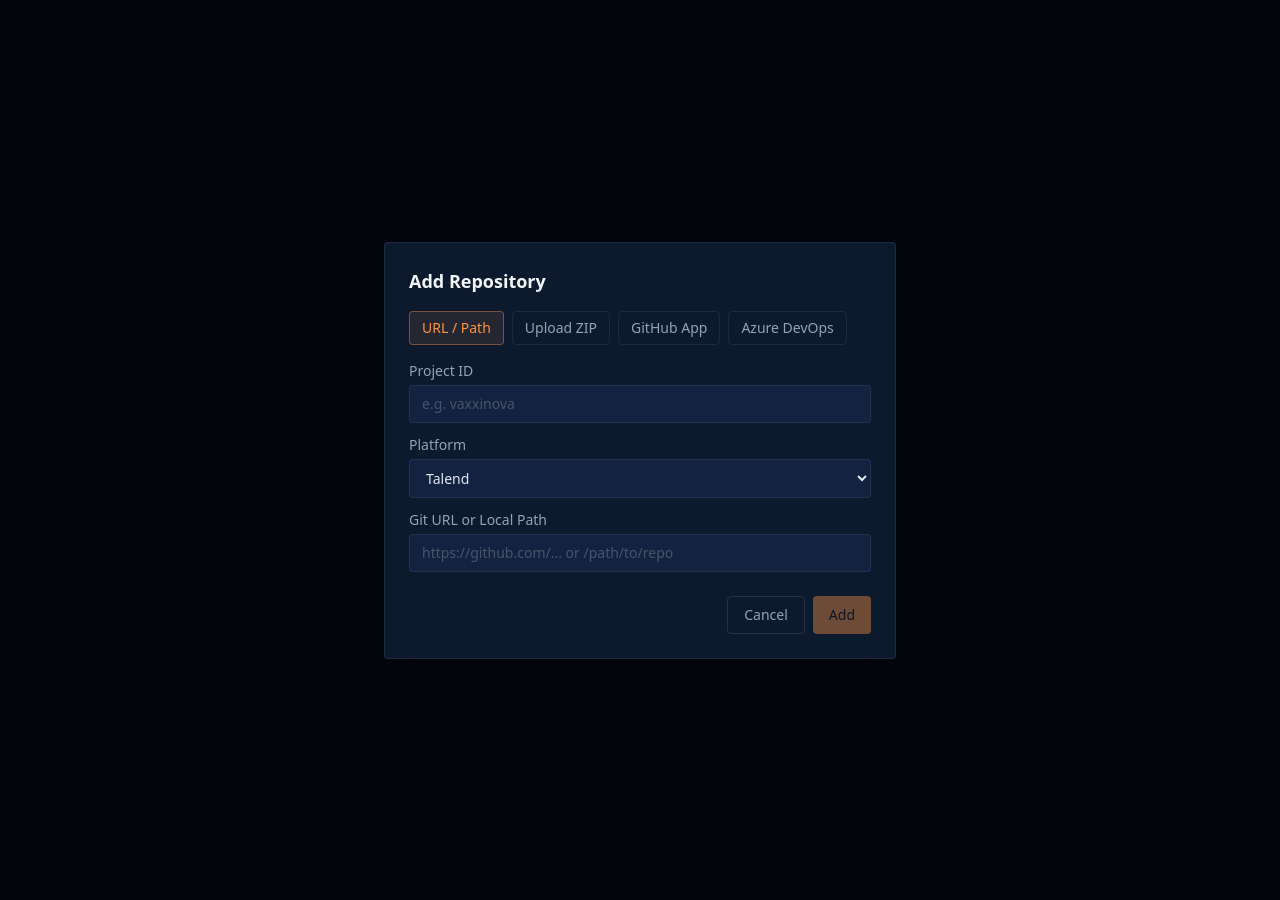
Test: AddRepoDialog credential field › offers a token for any https host, not just github.com
Type "demo" into the field with placeholder "e.g. vaxxinova" at (640,404), box [409,384,871,422]
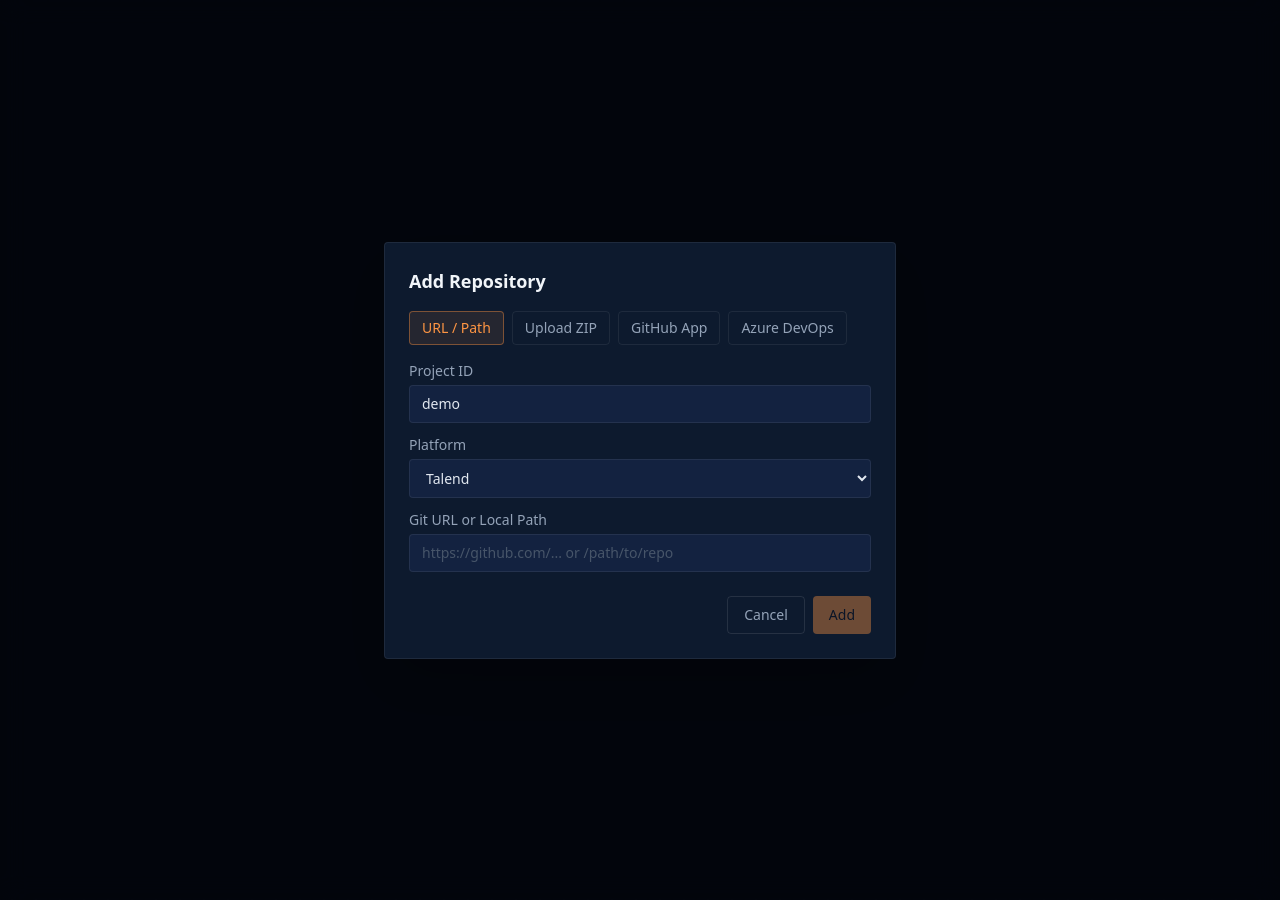
Type "https://gitlab.example.com/team/repo.git" into the field with placeholder "https://github.com/... or /path/to/repo" at (640,552), box [409,534,871,572]
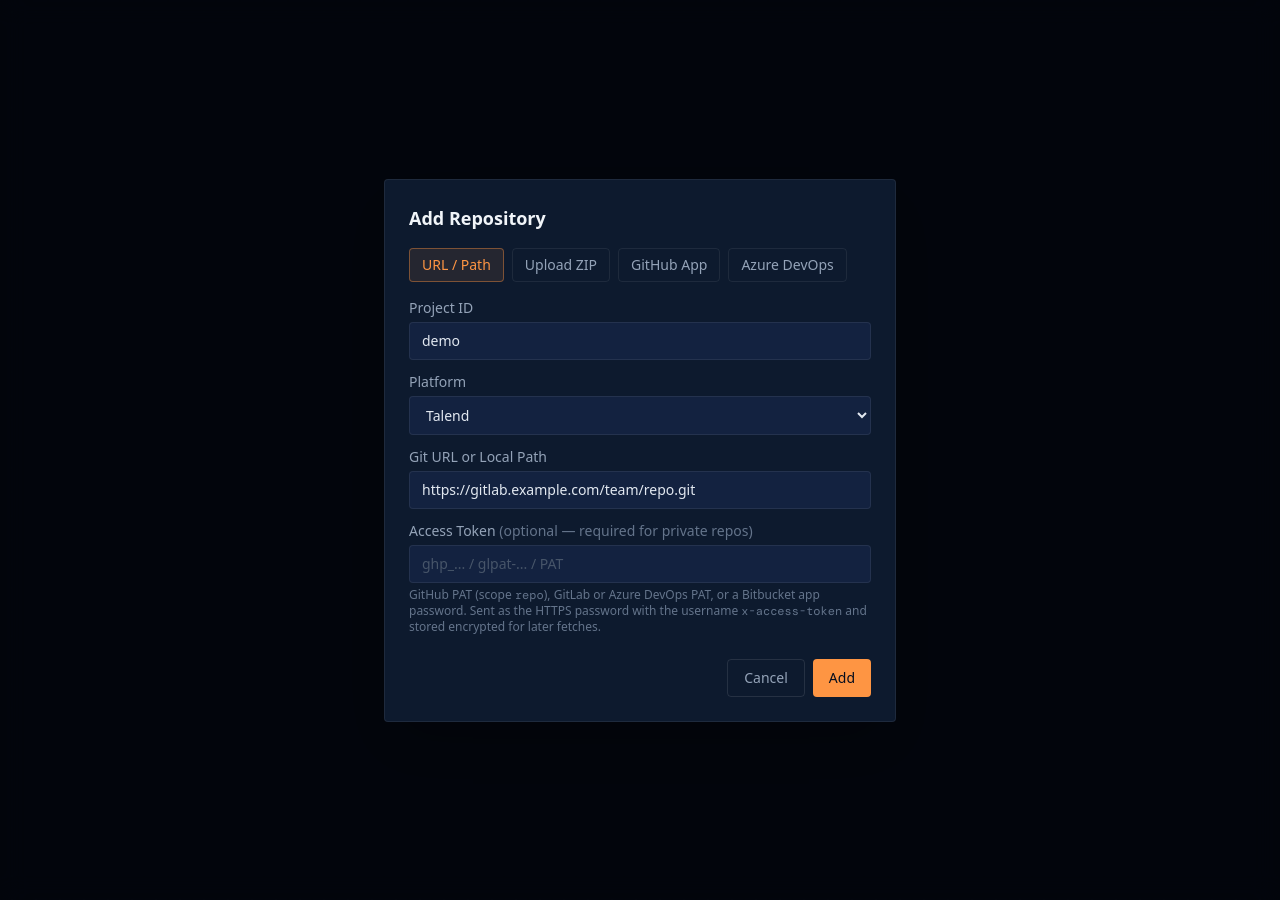
expect the password field with placeholder "ghp_... / glpat-... / PAT" is shown: met, box [409,544,871,582]
